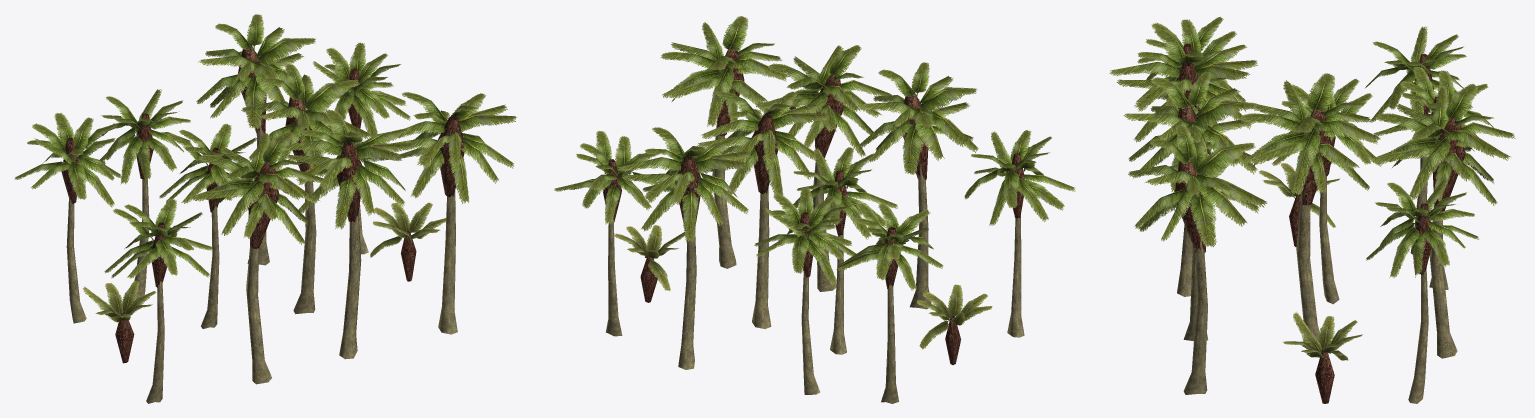
File: orchard_date_a.glb
3 renders of one model, left to right at view 1: azimuth 30°, elevation 25°; view 2: azimuth 150°, elevation 25°; view 3: azimuth 270°, elevation 25°, orthographic. The views are drawn at different scales.
Parts seen in each view (by area): view 1: palm_8, palm_5, palm_11, palm_7, palm_6, palm_0, palm_2, palm_3, palm_9, palm_4, palm_10, palm_1; view 2: palm_6, palm_5, palm_7, palm_11, palm_8, palm_3, palm_2, palm_0, palm_9, palm_4, palm_1, palm_10; view 3: palm_11, palm_7, palm_6, palm_8, palm_5, palm_9, palm_0, palm_4, palm_10, palm_2, palm_3, palm_1.
Part boxes in pixels (x1,y1,x2,y2): palm_8: (283,109,414,359); palm_5: (189,131,323,384); palm_11: (391,92,516,334); palm_7: (241,64,371,314); palm_6: (196,14,315,265); palm_0: (15,113,121,323); palm_2: (104,198,212,403); palm_3: (99,89,191,298); palm_9: (305,42,410,254); palm_4: (159,124,257,328); palm_10: (370,202,446,281); palm_1: (82,280,156,363); palm_6: (618,127,750,369); palm_5: (858,62,978,309); palm_7: (697,91,829,328); palm_11: (660,16,788,268); palm_8: (755,45,891,291); palm_3: (754,187,856,394); palm_2: (964,130,1075,337); palm_0: (836,203,943,403); palm_9: (554,131,665,336); palm_4: (793,147,897,354); palm_1: (916,284,992,364); palm_10: (614,225,685,302); palm_11: (1128,125,1267,394); palm_7: (1240,73,1380,348); palm_6: (1370,84,1515,358); palm_8: (1123,71,1257,341); palm_5: (1109,28,1257,296); palm_9: (1366,178,1478,403); palm_0: (1365,26,1472,253); palm_4: (1271,78,1381,304); palm_10: (1283,312,1362,403); palm_2: (1136,16,1245,102); palm_3: (1373,66,1493,289); palm_1: (1258,161,1339,247).
Bounding box in the file's own units: 40.83 × 22.7 × 33.69.
Materials: 12 (12 with a texture image).
